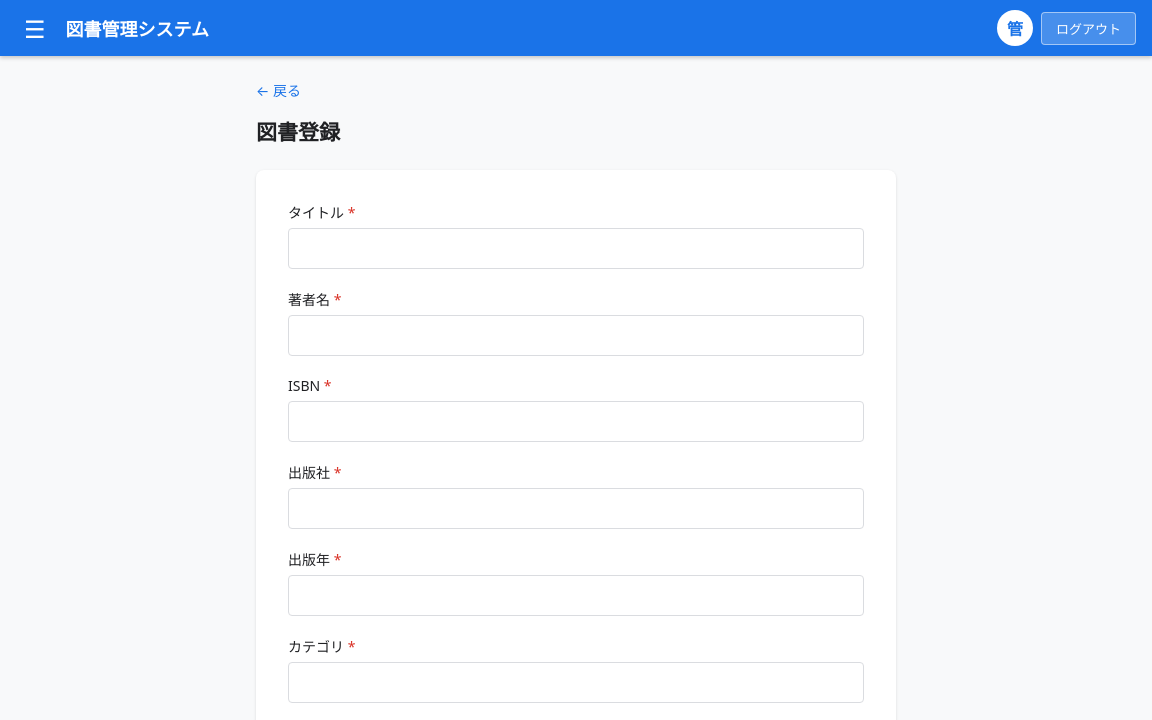
BookFormPage › shows api error on save failure
In the field below "タイトル": (576, 248) top-left (288, 228), bottom-right (864, 269), type "Title"
In the field below "著者名": (576, 336) top-left (288, 315), bottom-right (864, 356), type "Author"
In the field below "ISBN": (576, 422) top-left (288, 401), bottom-right (864, 442), type "1234567890"
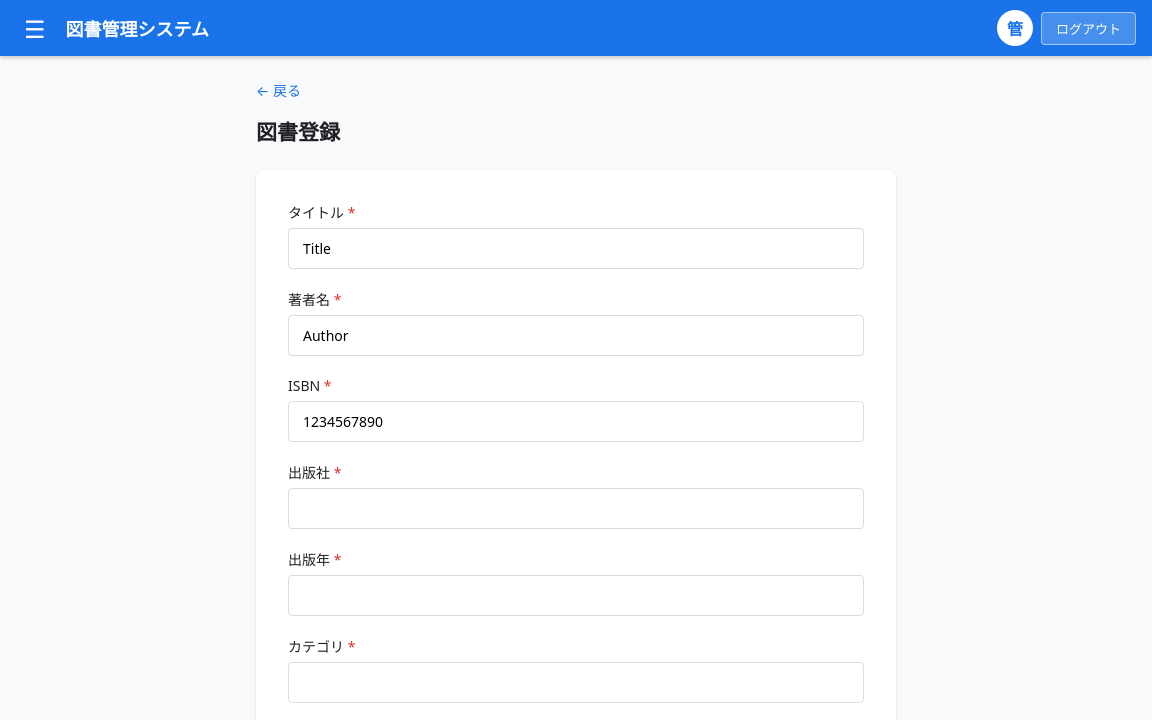
In the field below "出版社": (576, 508) top-left (288, 488), bottom-right (864, 529), type "Publisher"
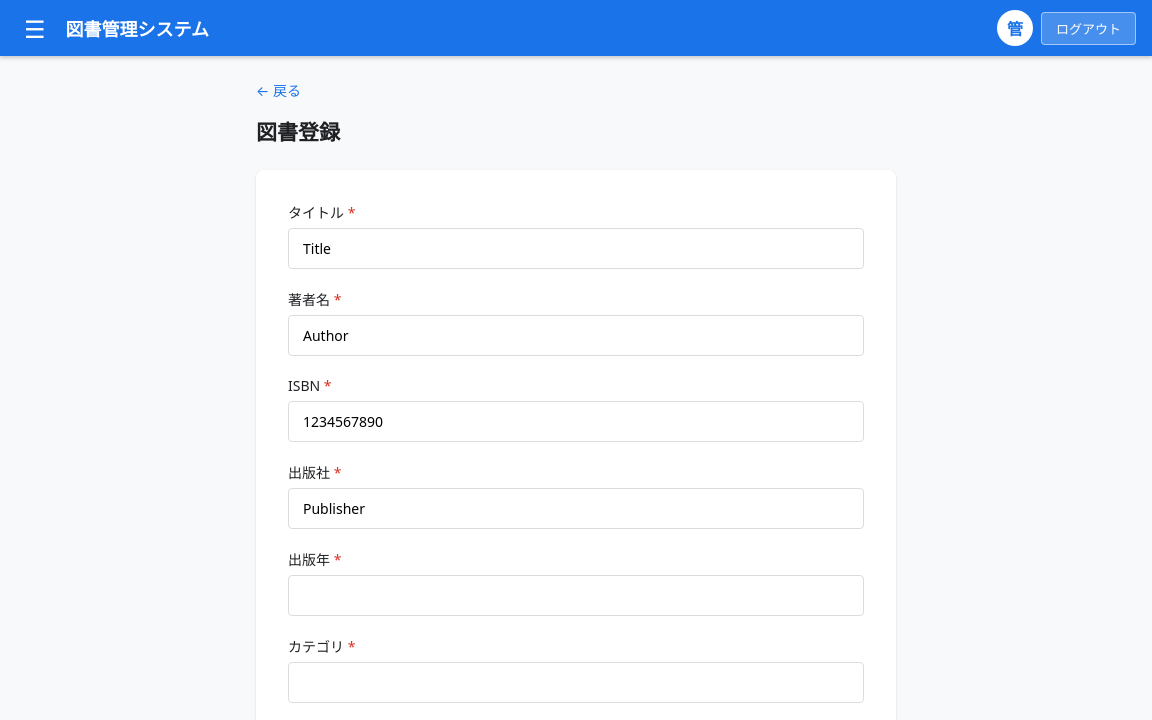
In the number field: (576, 596) top-left (288, 575), bottom-right (864, 616), type "2024"
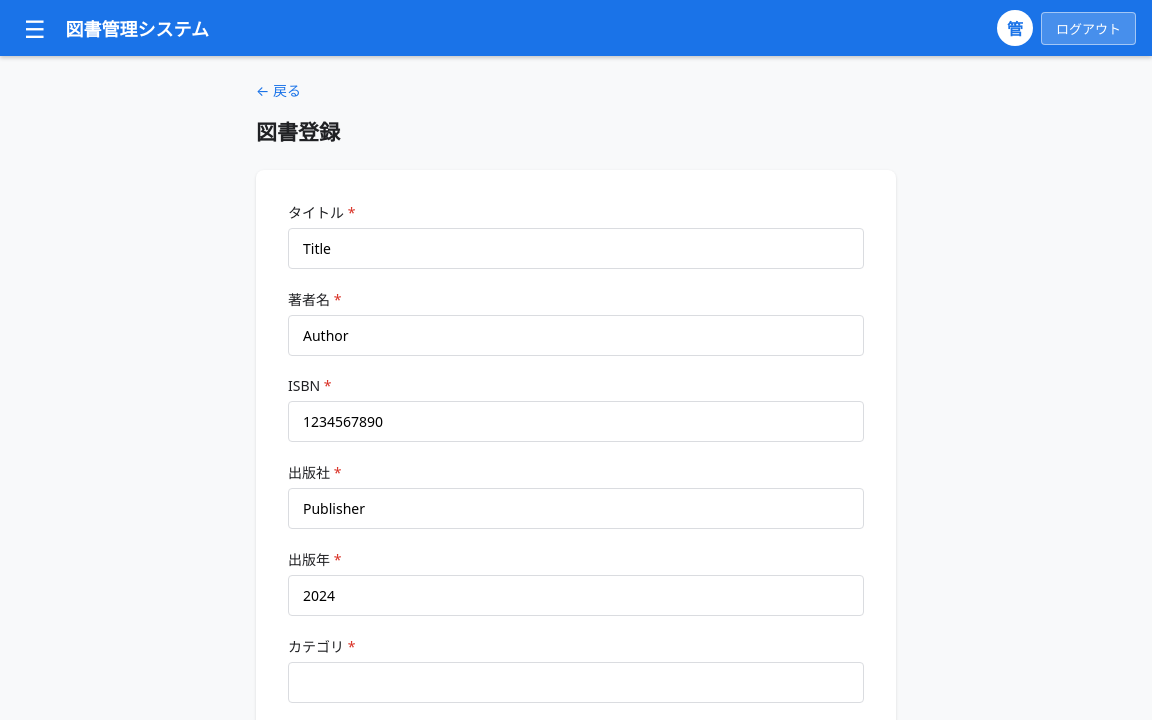
In the field below "カテゴリ": (576, 682) top-left (288, 662), bottom-right (864, 703), type "IT"
(page scrolled)
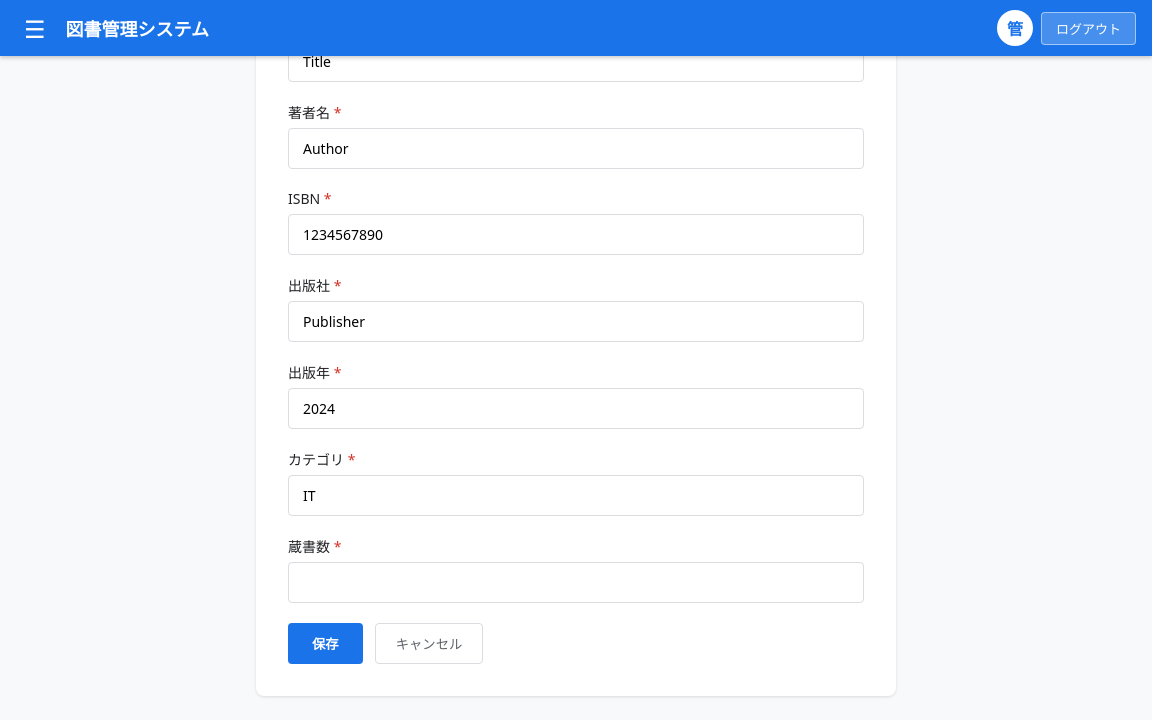
In the number field below "蔵書数": (576, 582) top-left (288, 562), bottom-right (864, 603), type "1"
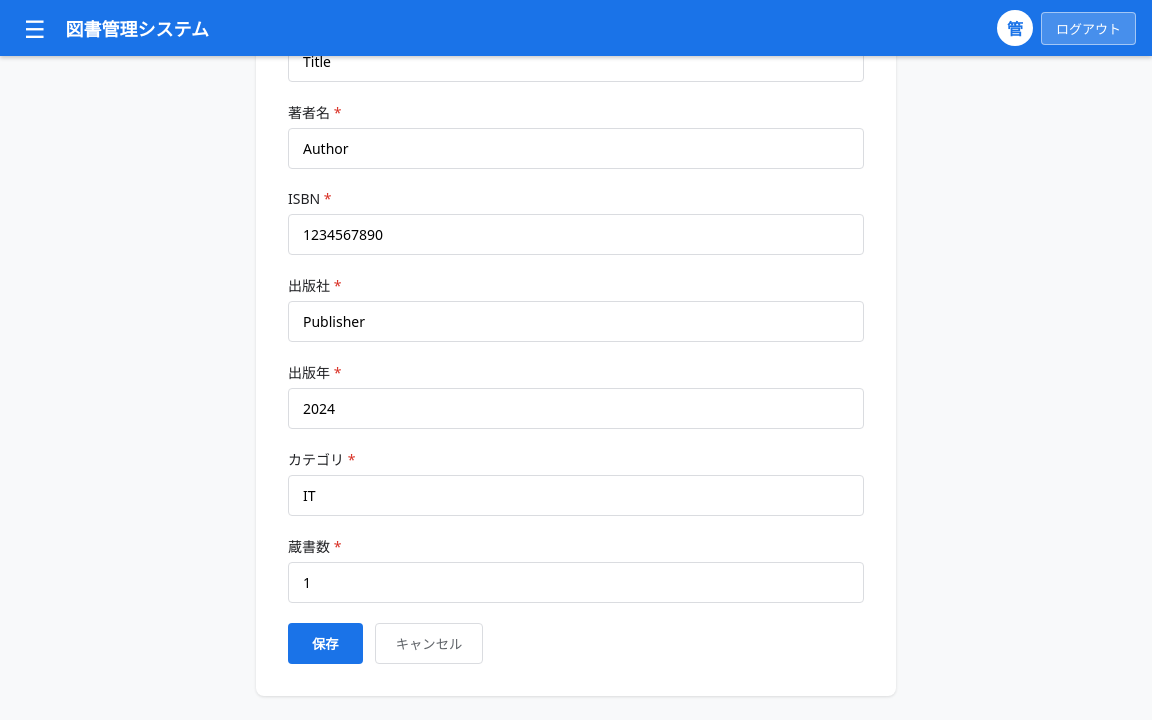
Click the button "保存": (325, 644) top-left (288, 623), bottom-right (363, 664)
(page scrolled)
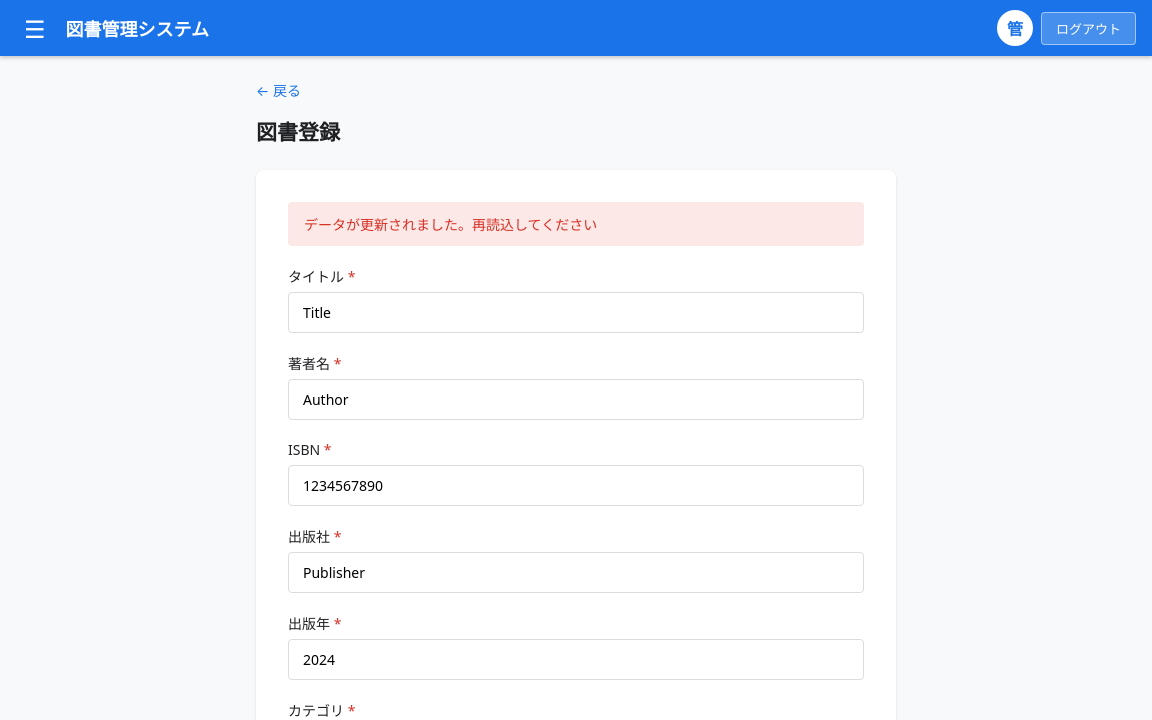
Check: the text "データが更新されました。再読込してください" is shown, box top-left (288, 202), bottom-right (864, 246)
